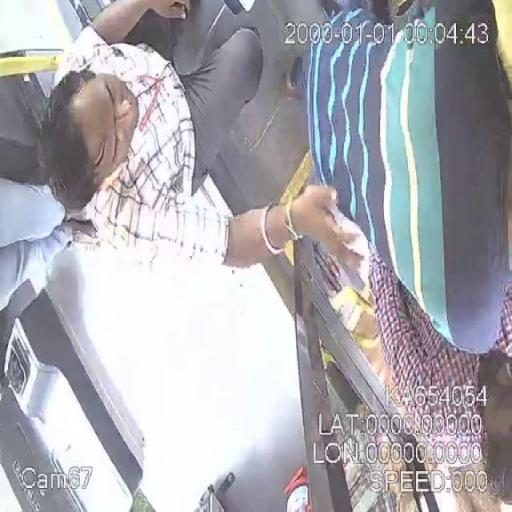persona: (304, 1, 511, 510), (28, 1, 350, 273)
